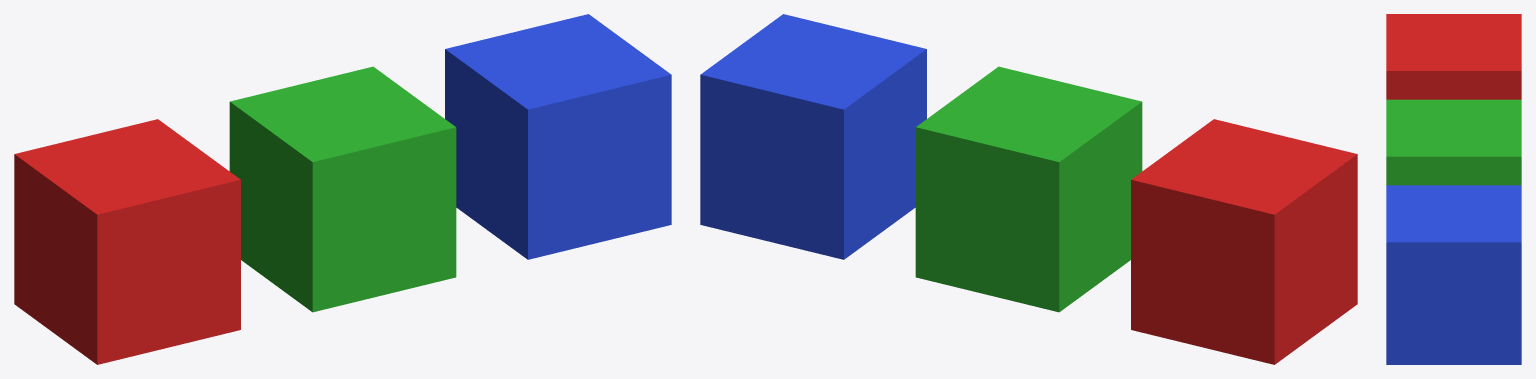
The model's file is TestColor.fbx.
3 renders of one model, left to right at view 1: azimuth 30°, elevation 25°; view 2: azimuth 150°, elevation 25°; view 3: azimuth 270°, elevation 25°, orthographic. The views are drawn at different scales.
Parts seen in each view (by area): view 1: Red, Green, Blue; view 2: Red, Green, Blue; view 3: Blue, Green, Red.
Boxes of the visible parts, bbox=[...] form: Red: bbox=[14, 119, 240, 364]; Green: bbox=[229, 66, 456, 312]; Blue: bbox=[445, 14, 671, 259]; Red: bbox=[1131, 119, 1357, 364]; Green: bbox=[915, 66, 1142, 312]; Blue: bbox=[700, 14, 926, 259]; Blue: bbox=[1386, 185, 1521, 364]; Green: bbox=[1386, 99, 1521, 185]; Red: bbox=[1386, 14, 1521, 99].
Bounding box in the file's own units: 400 × 100 × 100.
